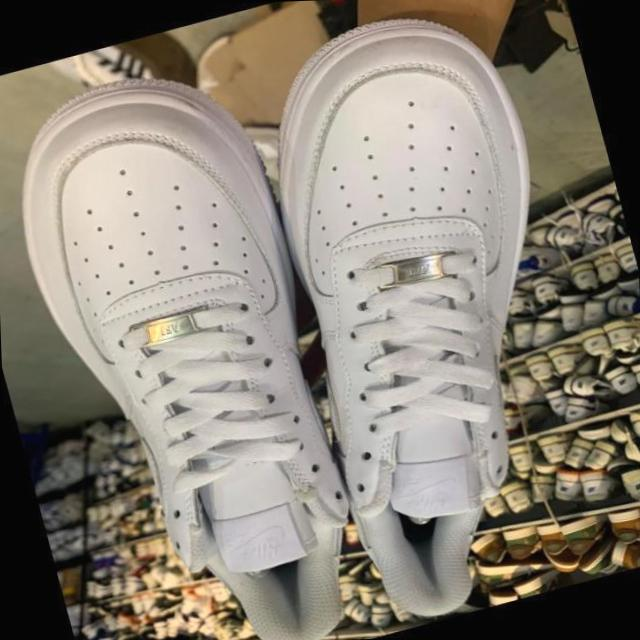nike_fake_airforce: (232, 0, 640, 633), (0, 43, 390, 640)
